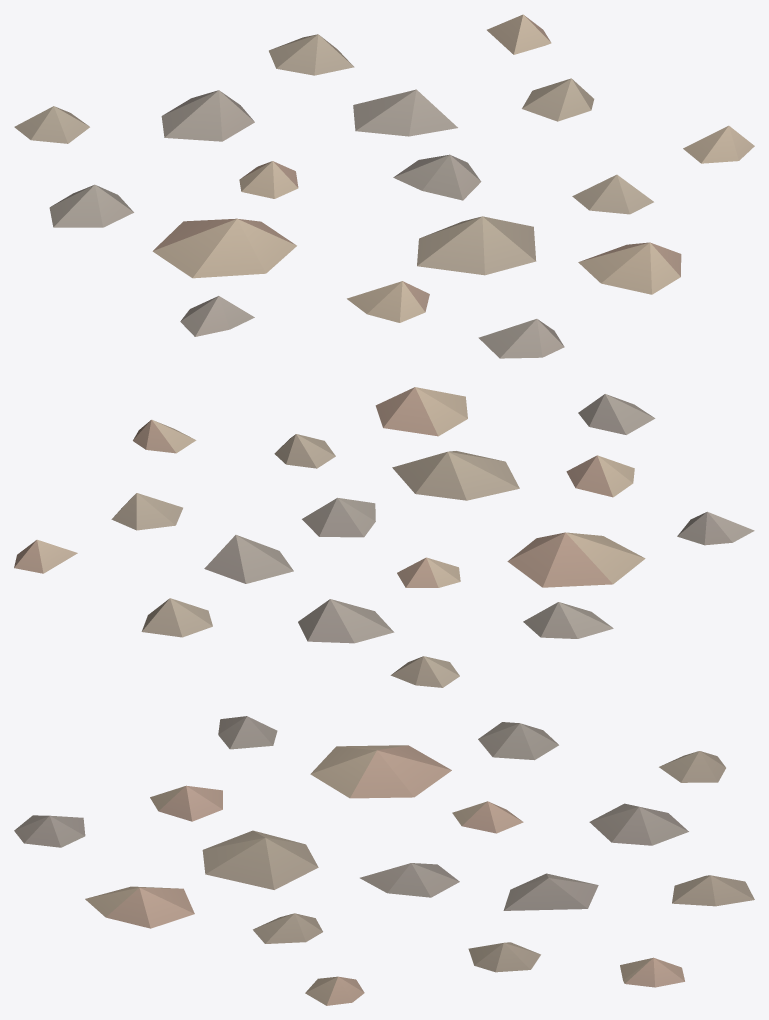
File: gravel.glb
3 renders of one model, top to bottom at view 1: azimuth 30°, elevation 25°; view 2: azimuth 150°, elevation 25°; view 3: azimuth 270°, elevation 25°, orthographic. The views are drawn at different scales.
Size of the model in its own units: 2.04 by 0.0886 by 2.23.
